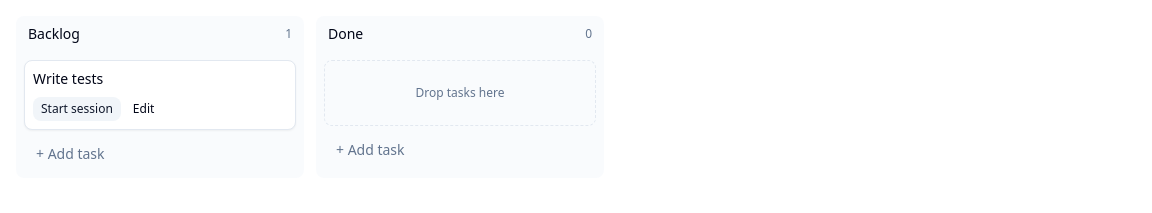
Test: BoardView › surfaces a dismissible banner when starting a session fails
Expected: the text "Write tests" is shown, [33,69,103,89]
Click the button "Start session".
click(77, 109)  # box [33,97,121,121]
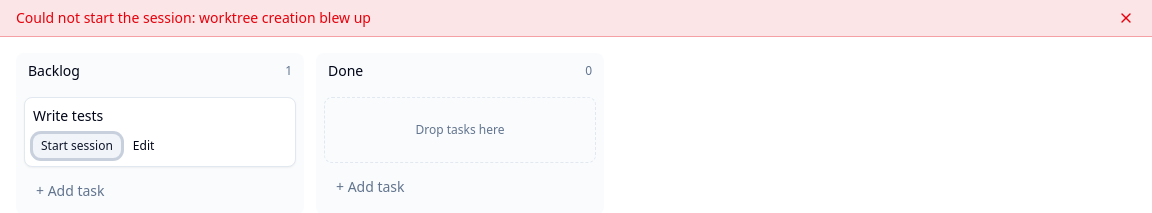
Expected: the message shows "worktree creation blew up", [16,8,371,27]
// And the banner can be dismissed.
Click the button named "Dismiss error".
click(1126, 18)  # box [1116,8,1136,28]
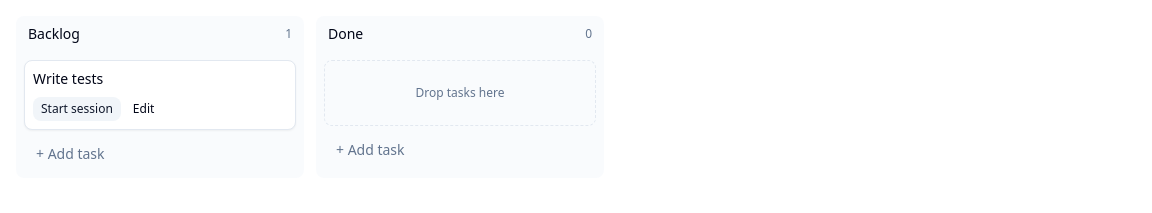
Expected: the message "Could not start the session: worktree creation blew up" is gone
